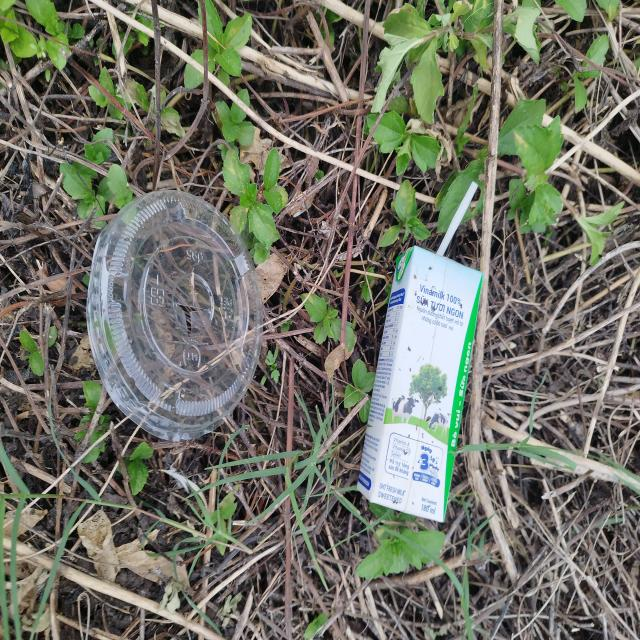drinking straw: (435, 180, 478, 258)
lid: (87, 190, 263, 442)
milk box: (356, 245, 485, 522)
